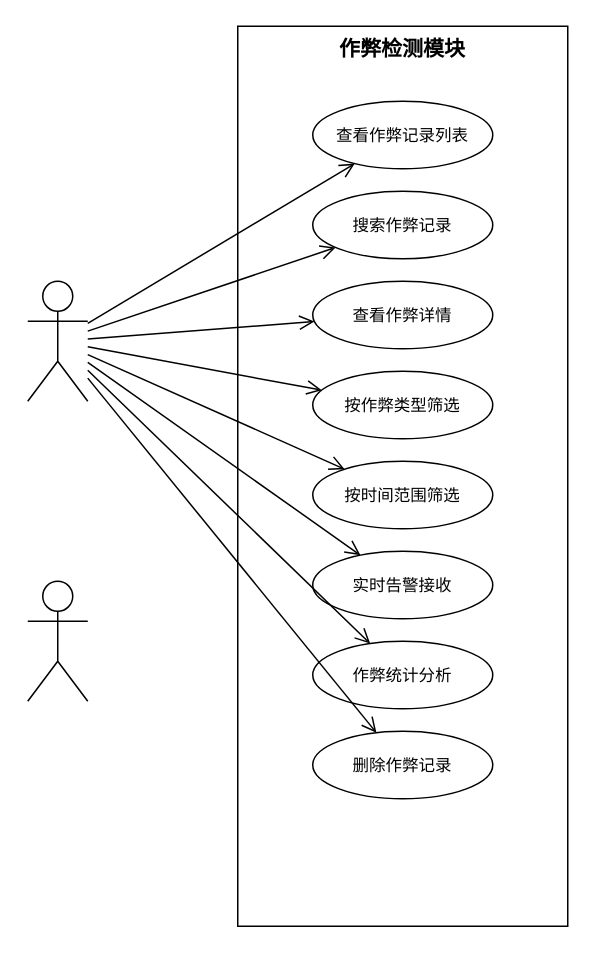
The diagram is 594 pixels wide and 953 high, and some of its shapes have lost their labels. Each missing label, with the centre of its shape:
MC玩家: (x=57, y=640)
管理员: (x=57, y=340)
